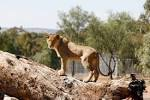lion: (46, 33, 108, 85)
